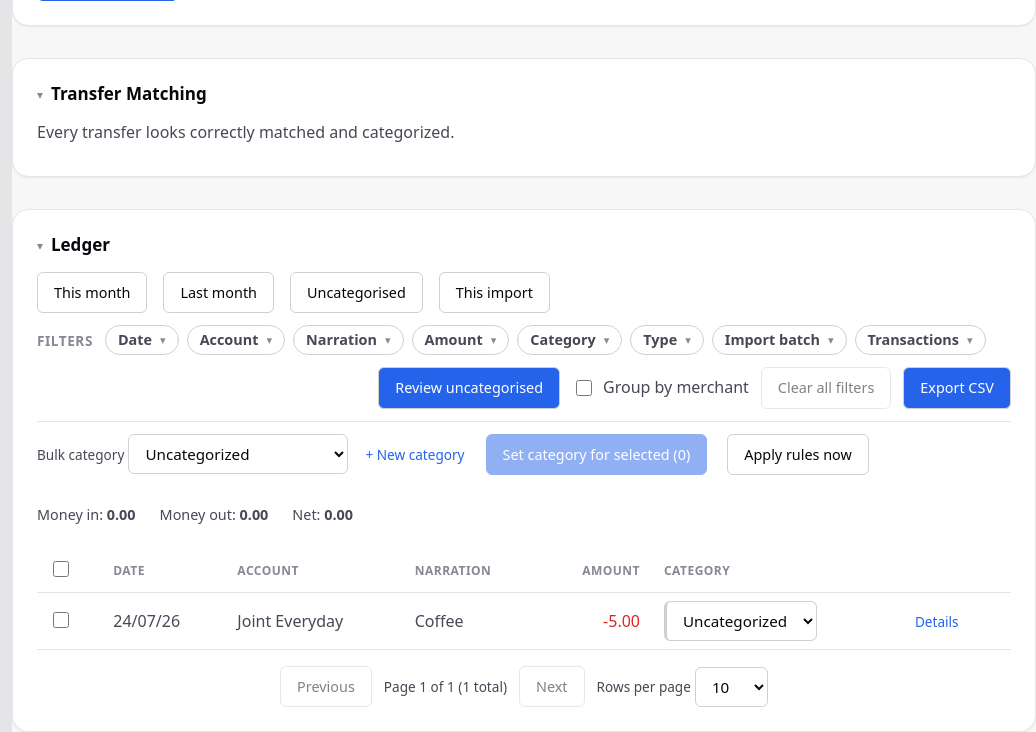
TransactionsPage › shows an error message when a delete request fails instead of failing silently
(page scrolled)
expect the text "Coffee" is shown: met, box [403, 593, 540, 650]
Click the button "Details". click: [937, 621]
box: [906, 604, 968, 638]
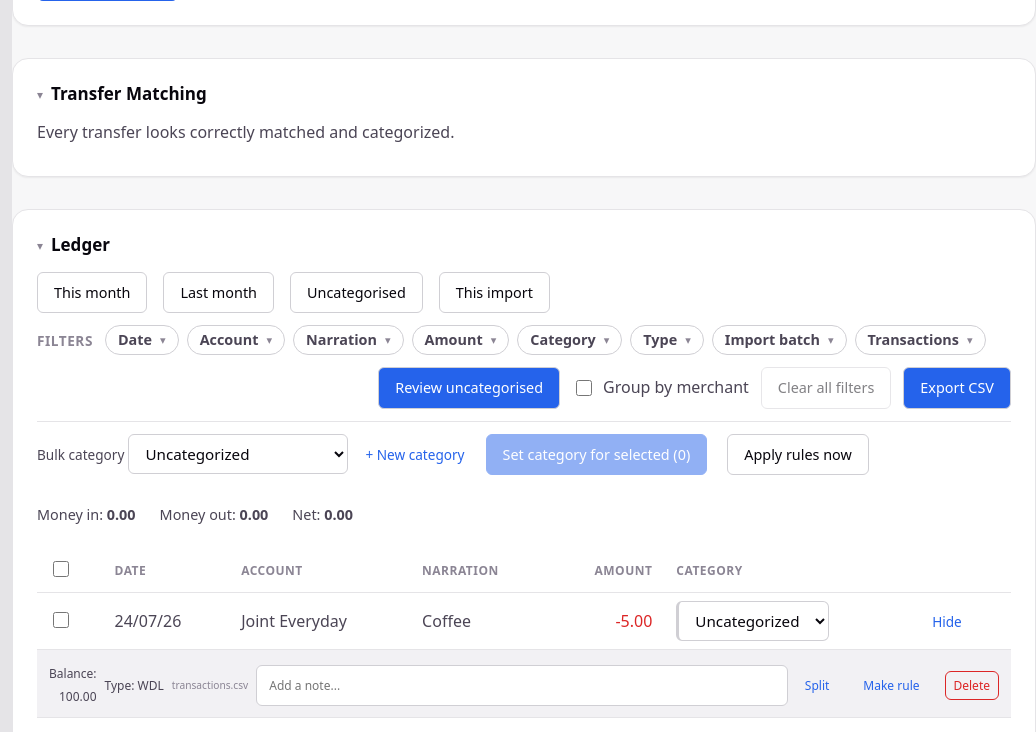
Click the button "Delete". click: [972, 685]
box: [944, 671, 999, 700]
(page scrolled)
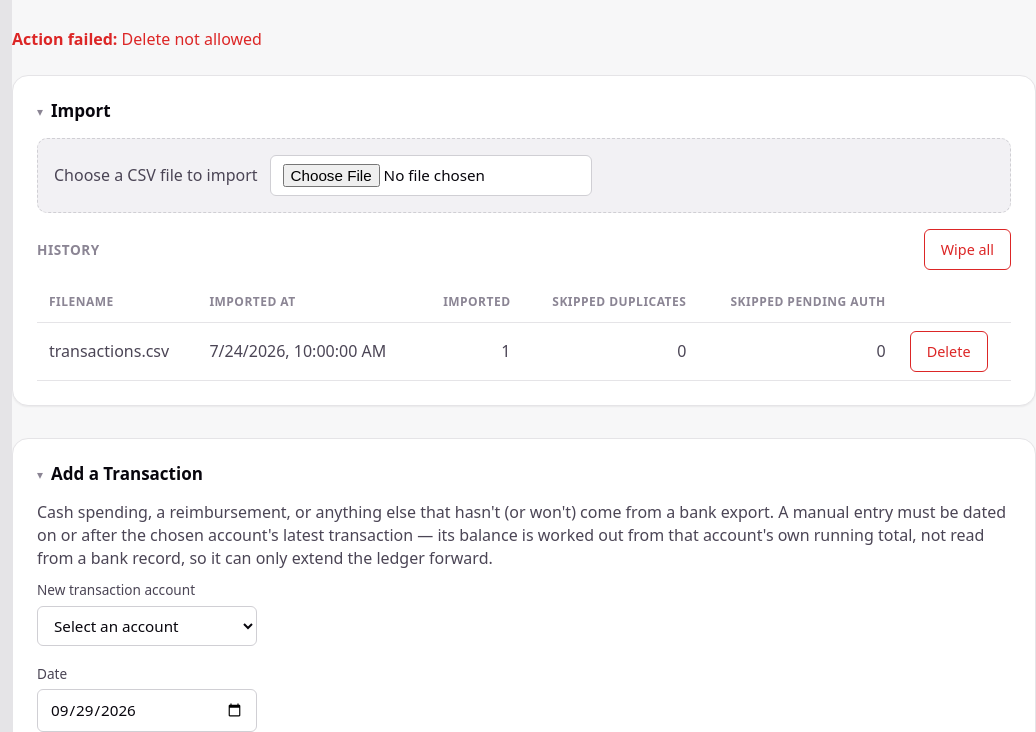
expect the text "Action failed: Delete not allowed" is shown: met, box [12, 28, 262, 50]
